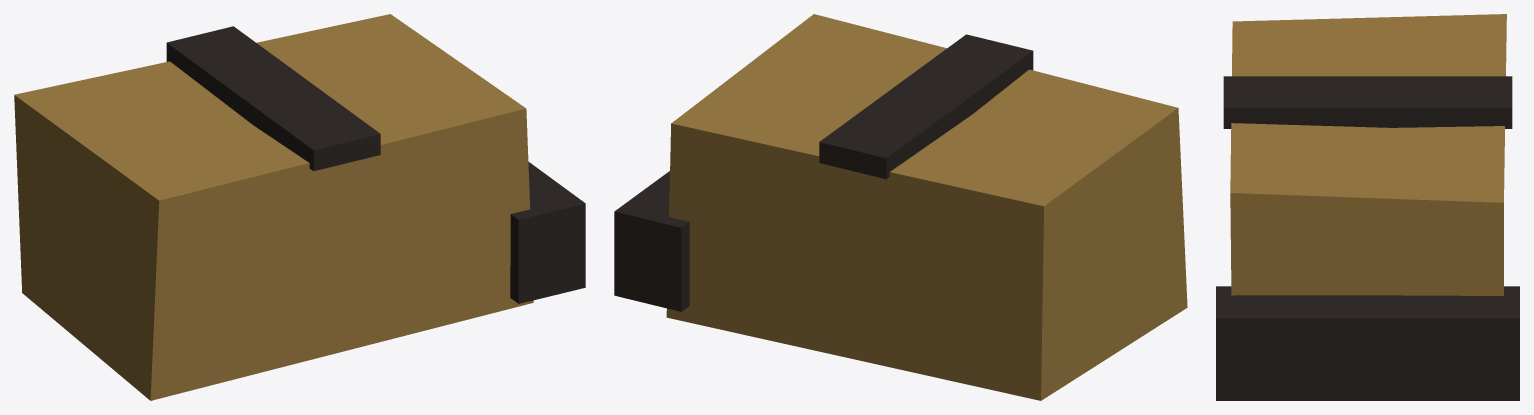
Rendered from wext_box_mag.glb.
3 views of the same model, side by side, from view 1: azimuth 30°, elevation 25°; view 2: azimuth 150°, elevation 25°; view 3: azimuth 270°, elevation 25° (orthographic).
Parts seen in each view (by area): view 1: wext_box_mag; view 2: wext_box_mag; view 3: wext_box_mag.
Part boxes in pixels (x1=…): wext_box_mag: x1=14, y1=14, x2=585, y2=400; wext_box_mag: x1=614, y1=14, x2=1187, y2=400; wext_box_mag: x1=1216, y1=14, x2=1519, y2=400.
Bounding box in the file's own units: 0.3183 × 0.1547 × 0.2.
